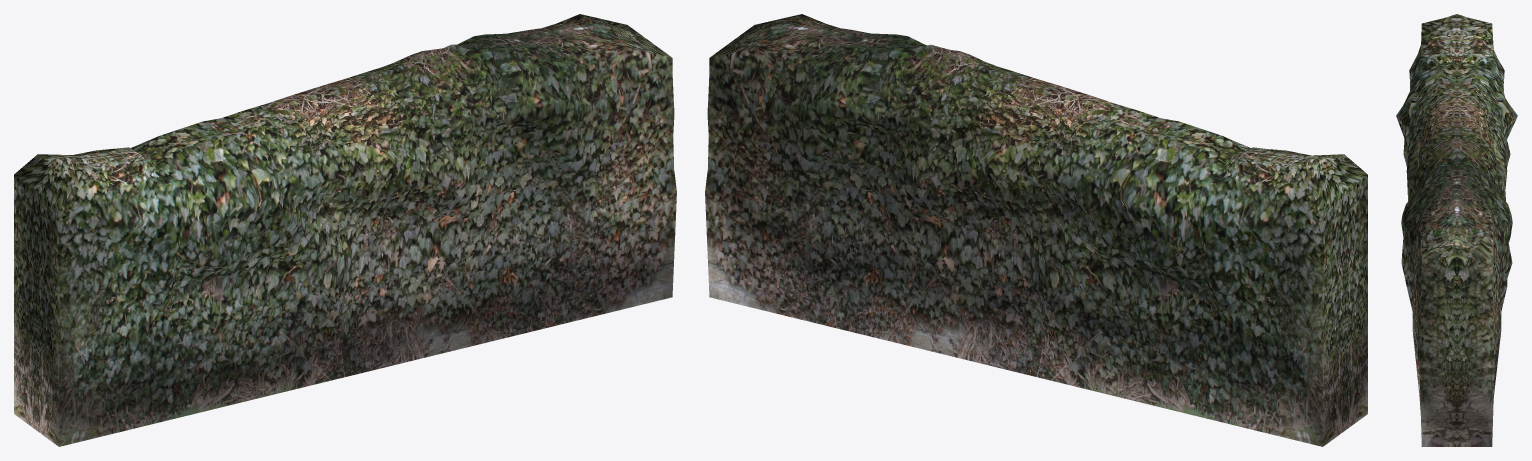
The model's file is wallpartb.fbx.
3 renders of one model, left to right at view 1: azimuth 30°, elevation 25°; view 2: azimuth 150°, elevation 25°; view 3: azimuth 270°, elevation 25°, orthographic. The views are drawn at different scales.
Visible parts, largest first — view 1: U3DMesh; view 2: U3DMesh; view 3: U3DMesh.
Part boxes in pixels (x1,y1,x2,y2): U3DMesh: [14, 14, 676, 446]; U3DMesh: [705, 14, 1367, 446]; U3DMesh: [1396, 14, 1517, 446].
Bounding box in the file's own units: 134 × 59 × 29.31.
